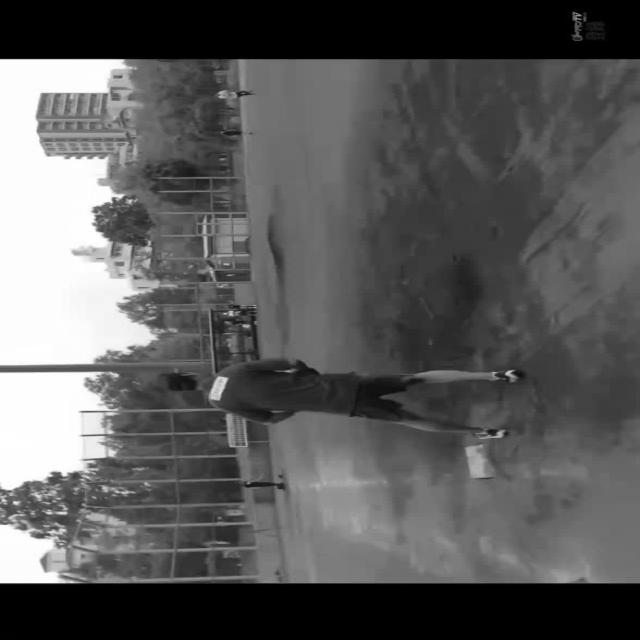base: (464, 442, 501, 477)
shoe: (470, 424, 508, 438), (492, 368, 526, 382)
